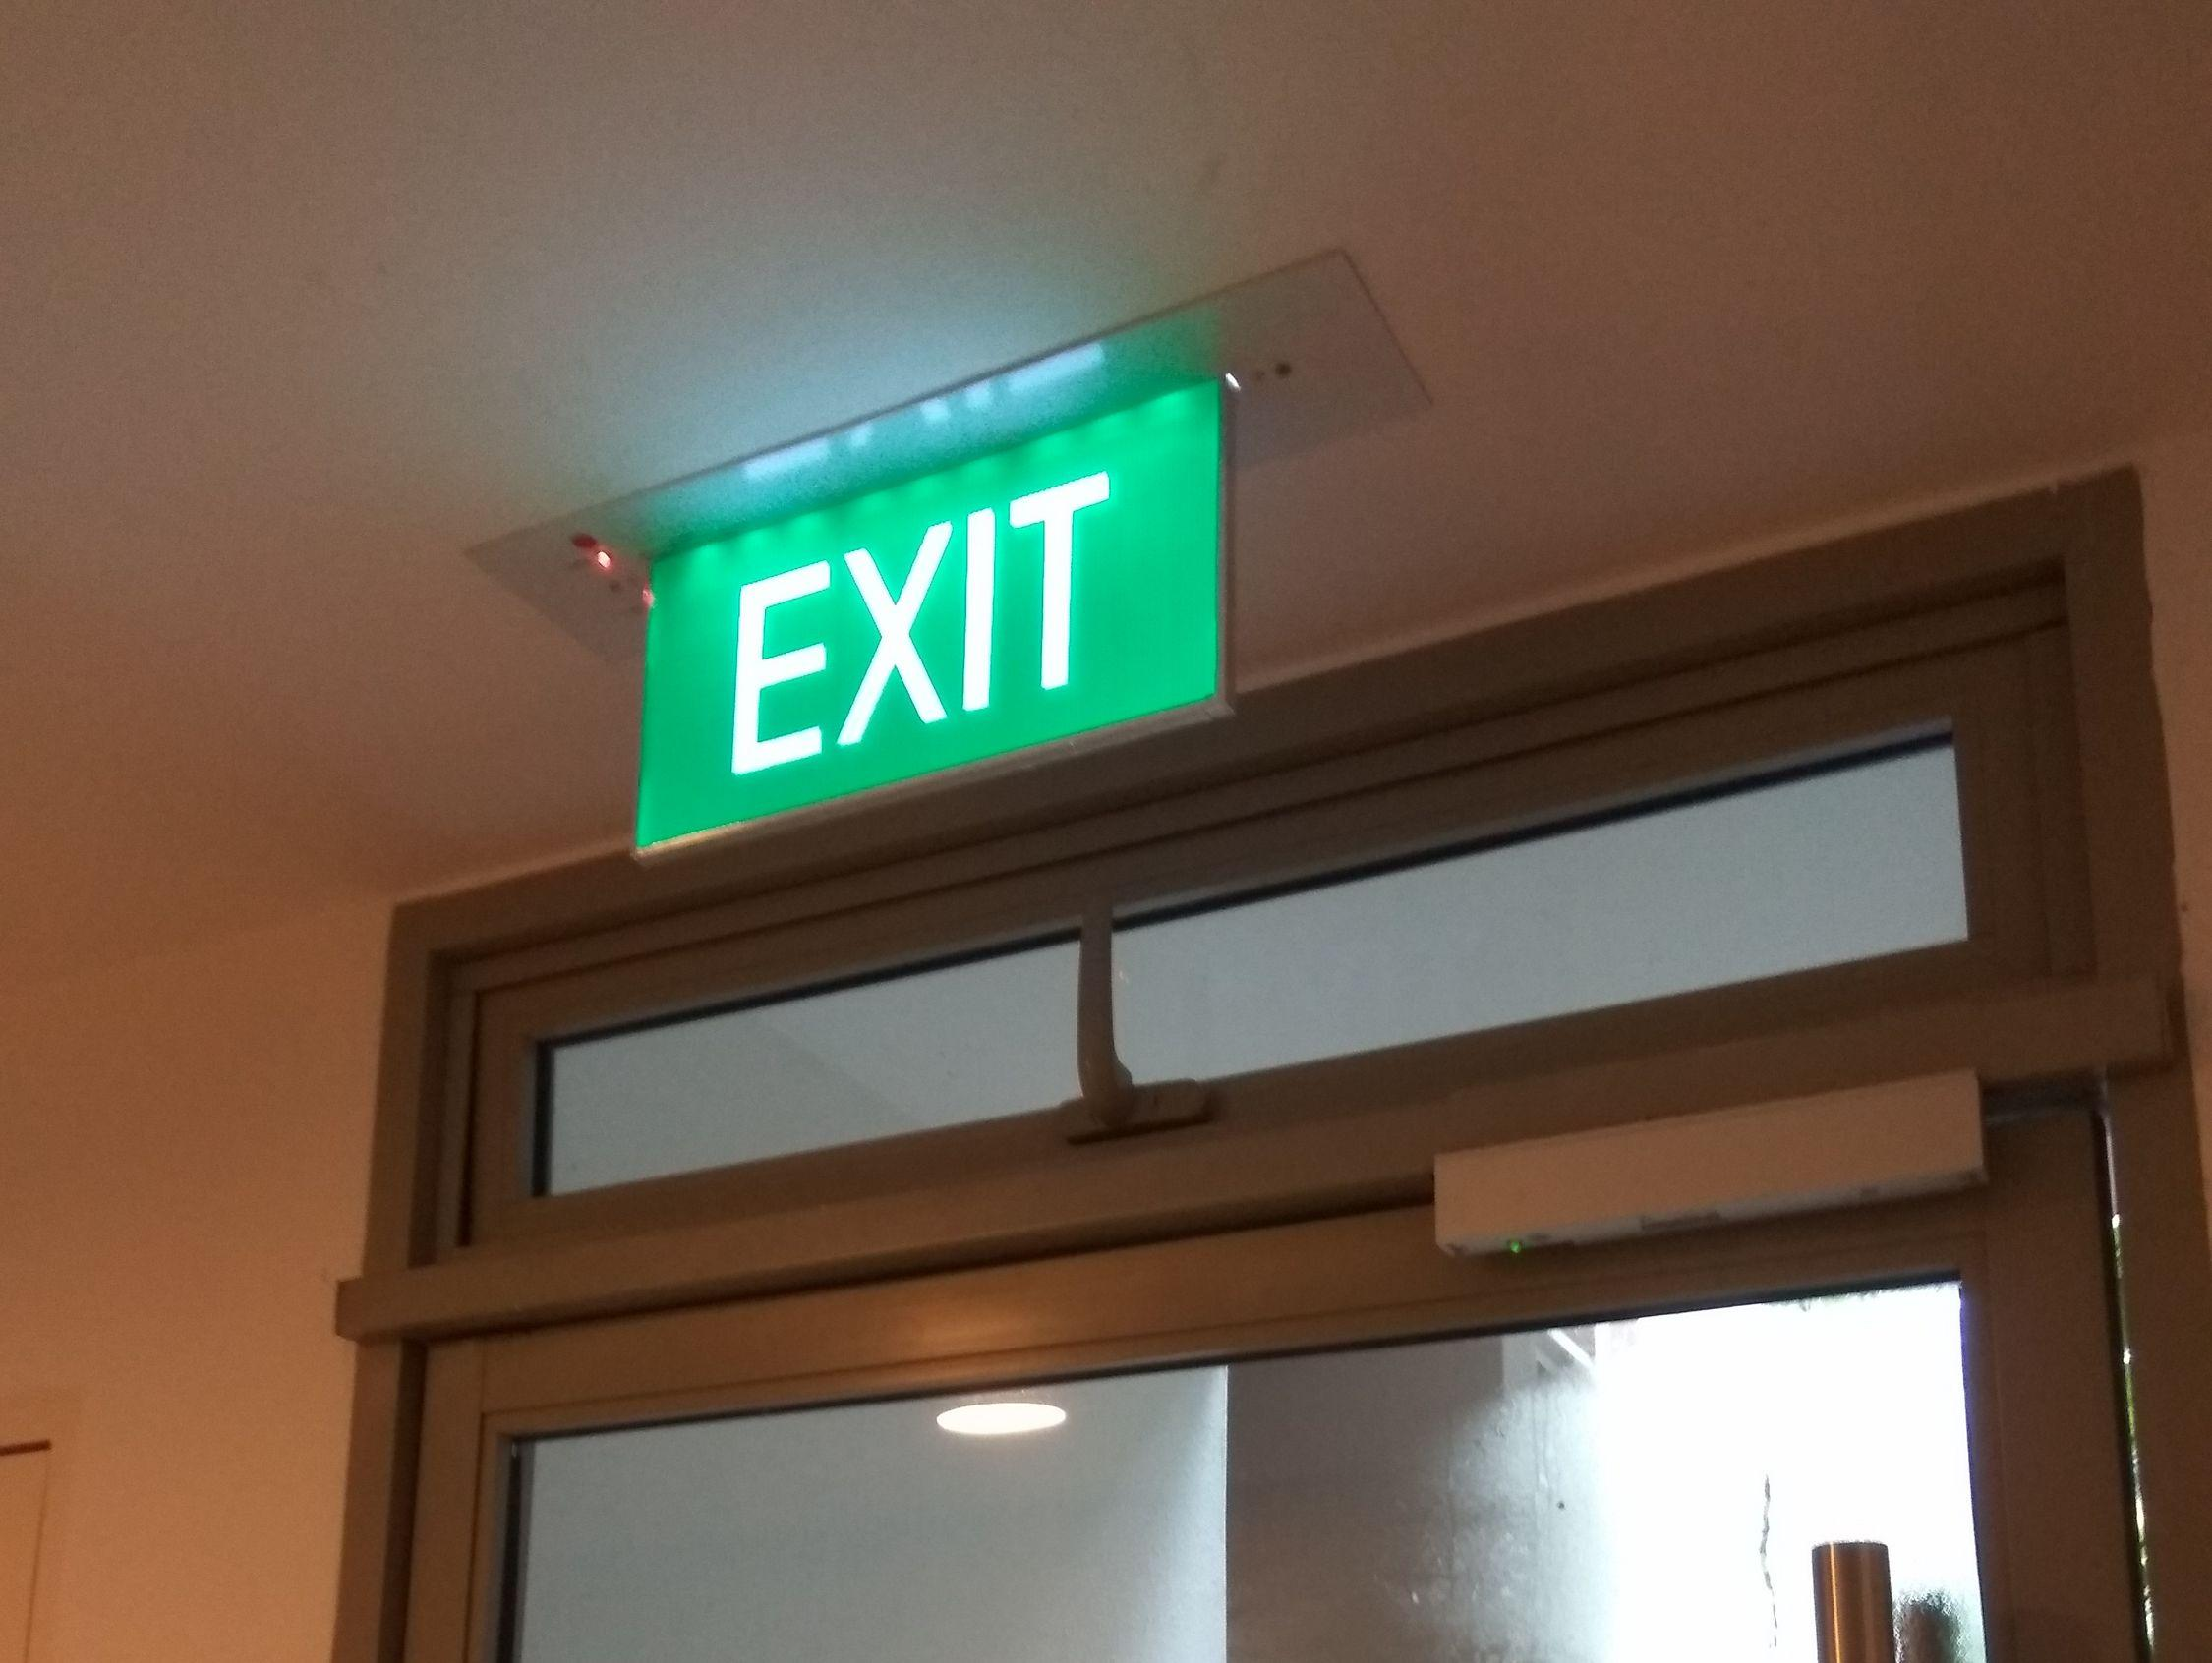exit: (346, 498, 2175, 1653)
lit_exit_sign: (632, 365, 1225, 854)
